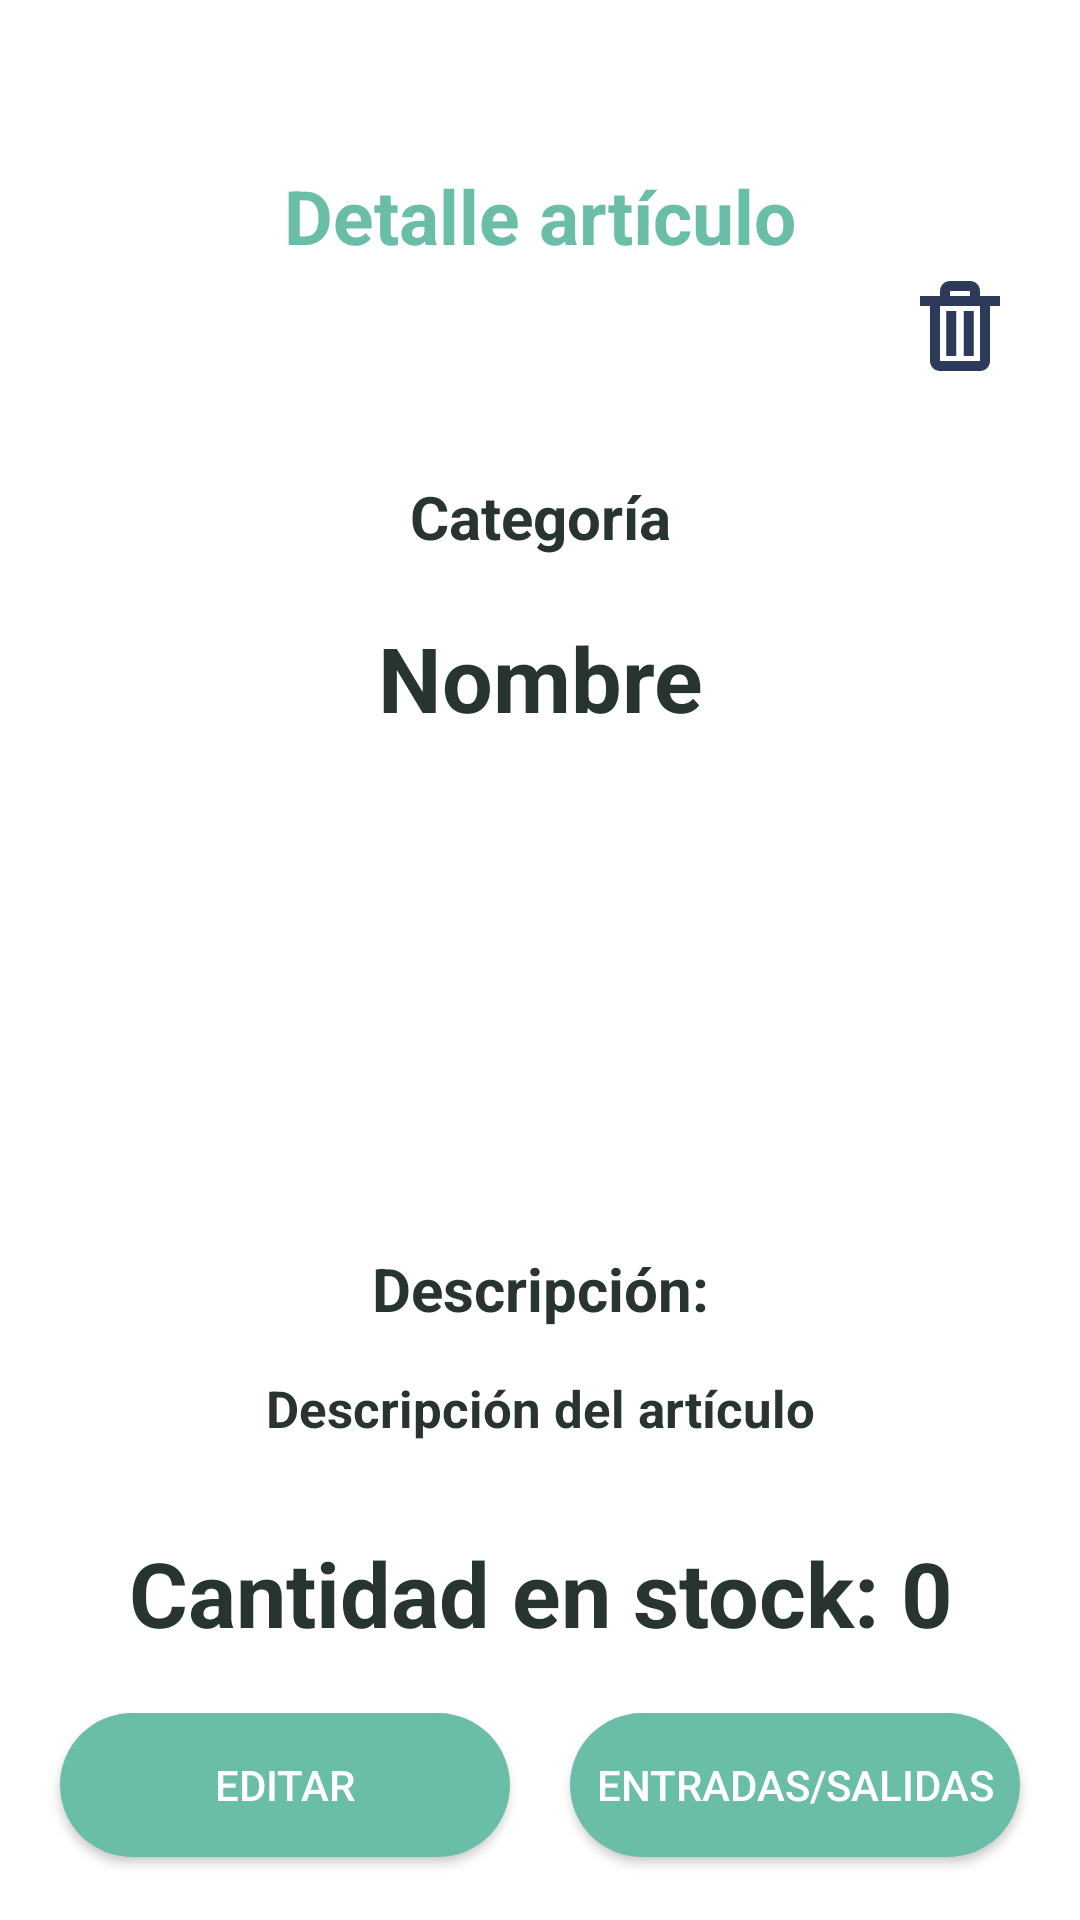

Icons on this 1080*1920 Android screen, each with the point to tap as [x,y]:
trash full: [960,326]
